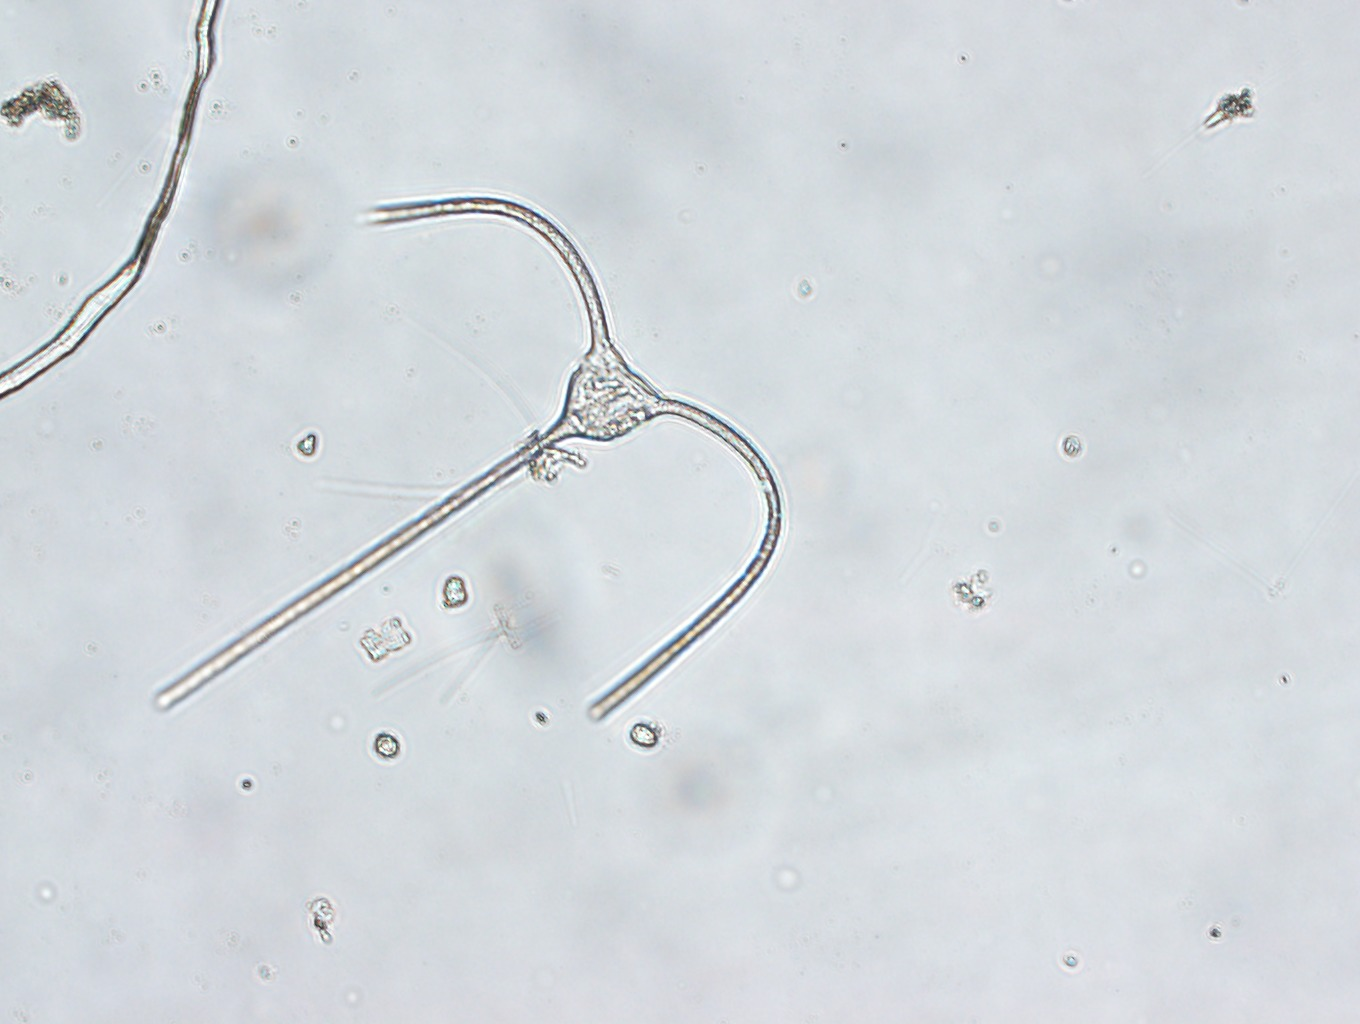ceratium trichoceros: (151, 193, 786, 719)
